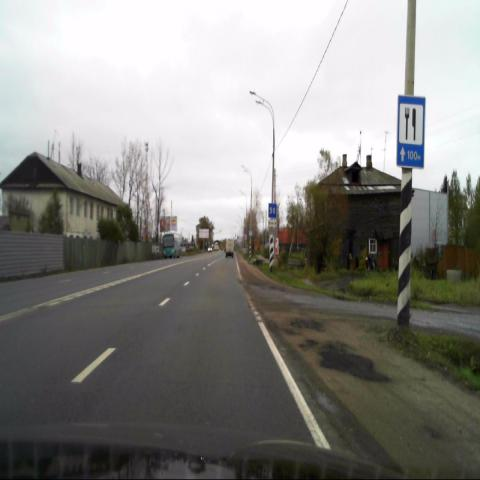7_7: (396, 96, 425, 170)
